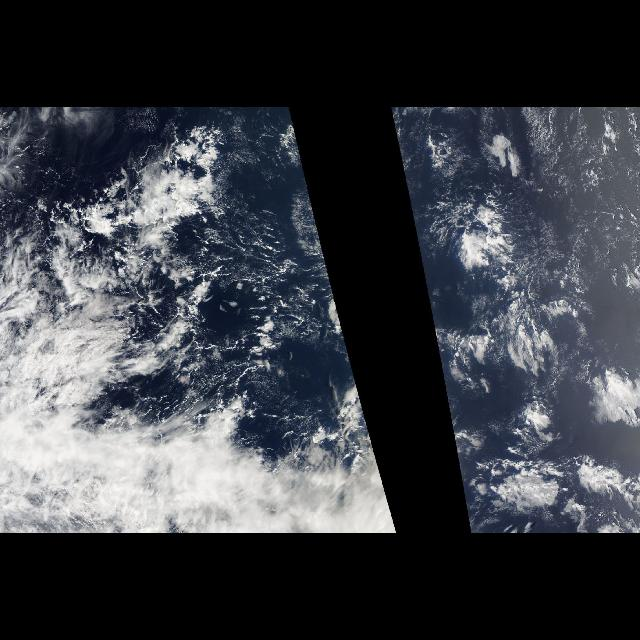Gravel: (520, 109, 636, 361)
Sugar: (506, 108, 638, 308)
